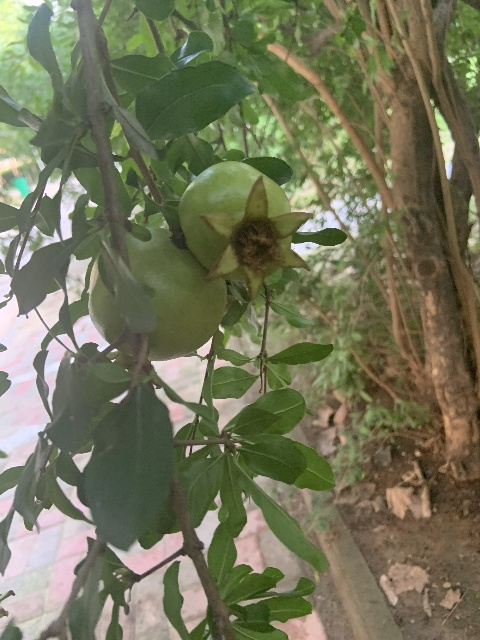mid-growth: (89, 226, 226, 388), (178, 161, 312, 302)
